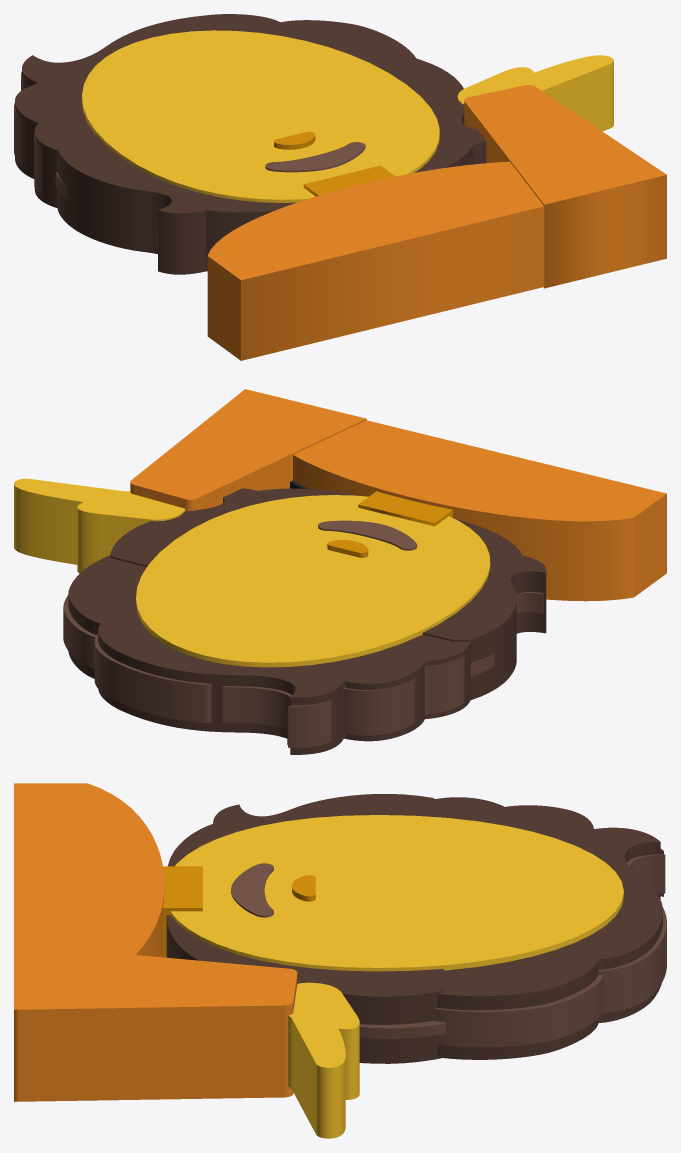
The model's file is emoji_u1f481.glb.
3 views of the same model, one above another, from view 1: azimuth 30°, elevation 25°; view 2: azimuth 150°, elevation 25°; view 3: azimuth 270°, elevation 25° (orthographic). The views are drawn at different scales.
Parts seen in each view (by area): view 1: emoji_u1f481; view 2: emoji_u1f481; view 3: emoji_u1f481.
Part boxes in pixels (x1,y1,x2,y2): emoji_u1f481: [14, 14, 666, 360]; emoji_u1f481: [14, 389, 666, 754]; emoji_u1f481: [14, 783, 666, 1138].
Bounding box in the file's own units: 0.0334 × 0.0052 × 0.0334.
